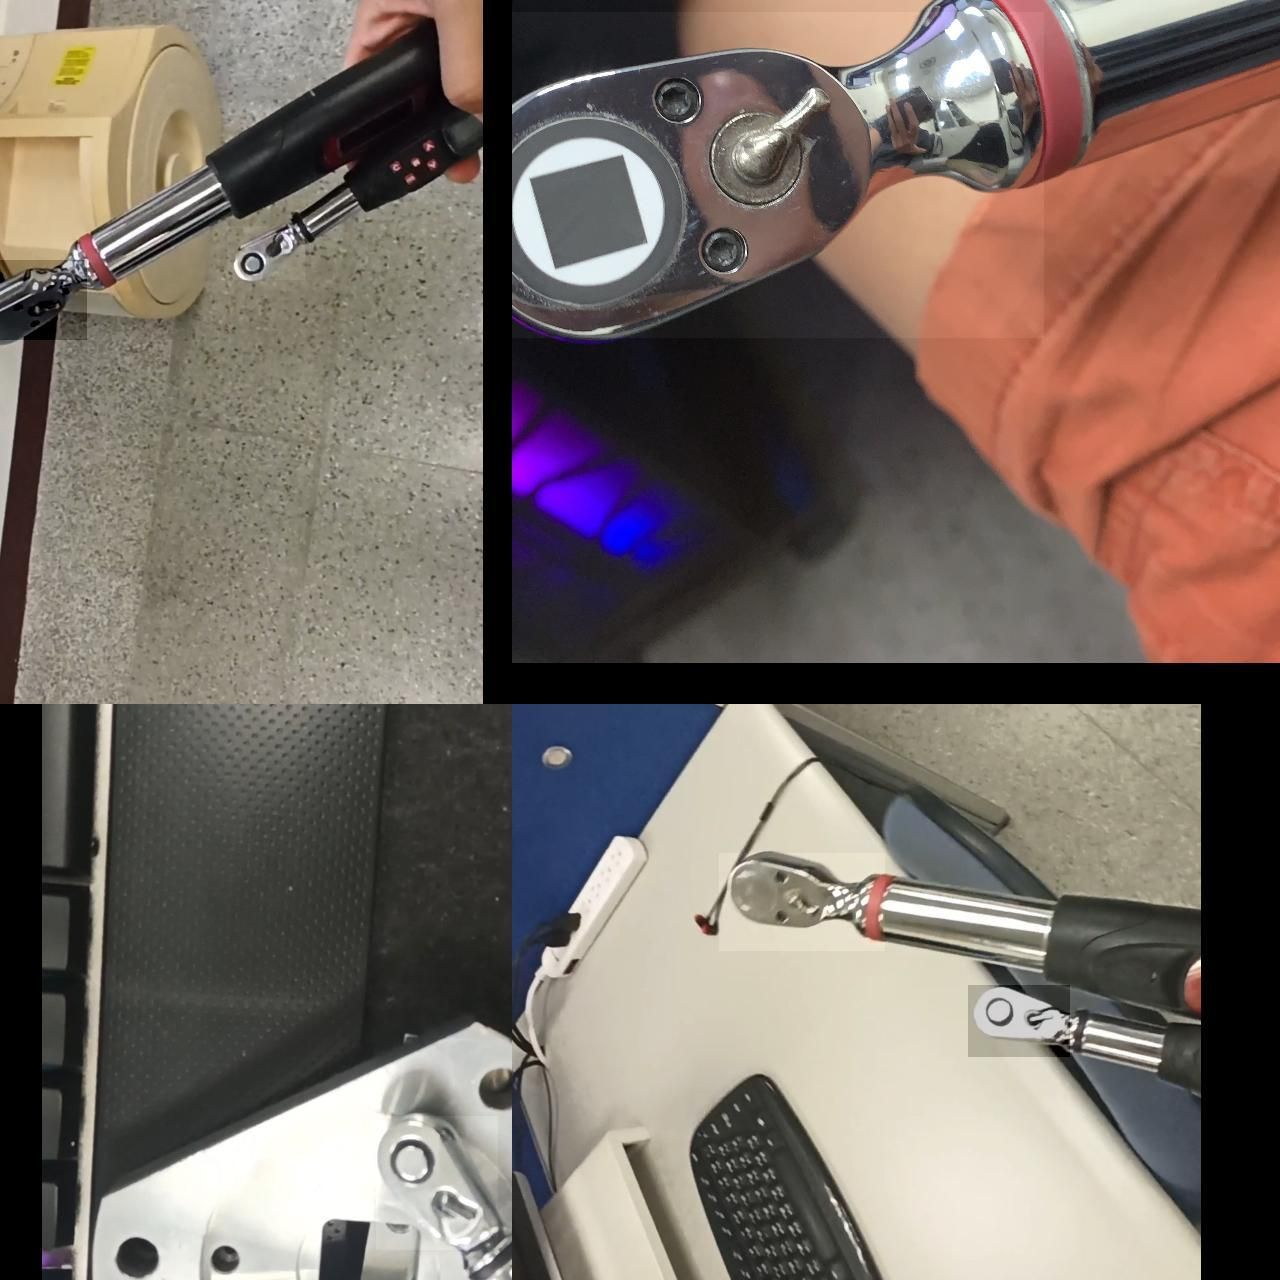Tool: (512, 11, 1044, 338), (376, 1115, 498, 1250), (719, 852, 885, 949), (968, 983, 1070, 1056), (0, 259, 87, 339), (227, 225, 305, 279)
